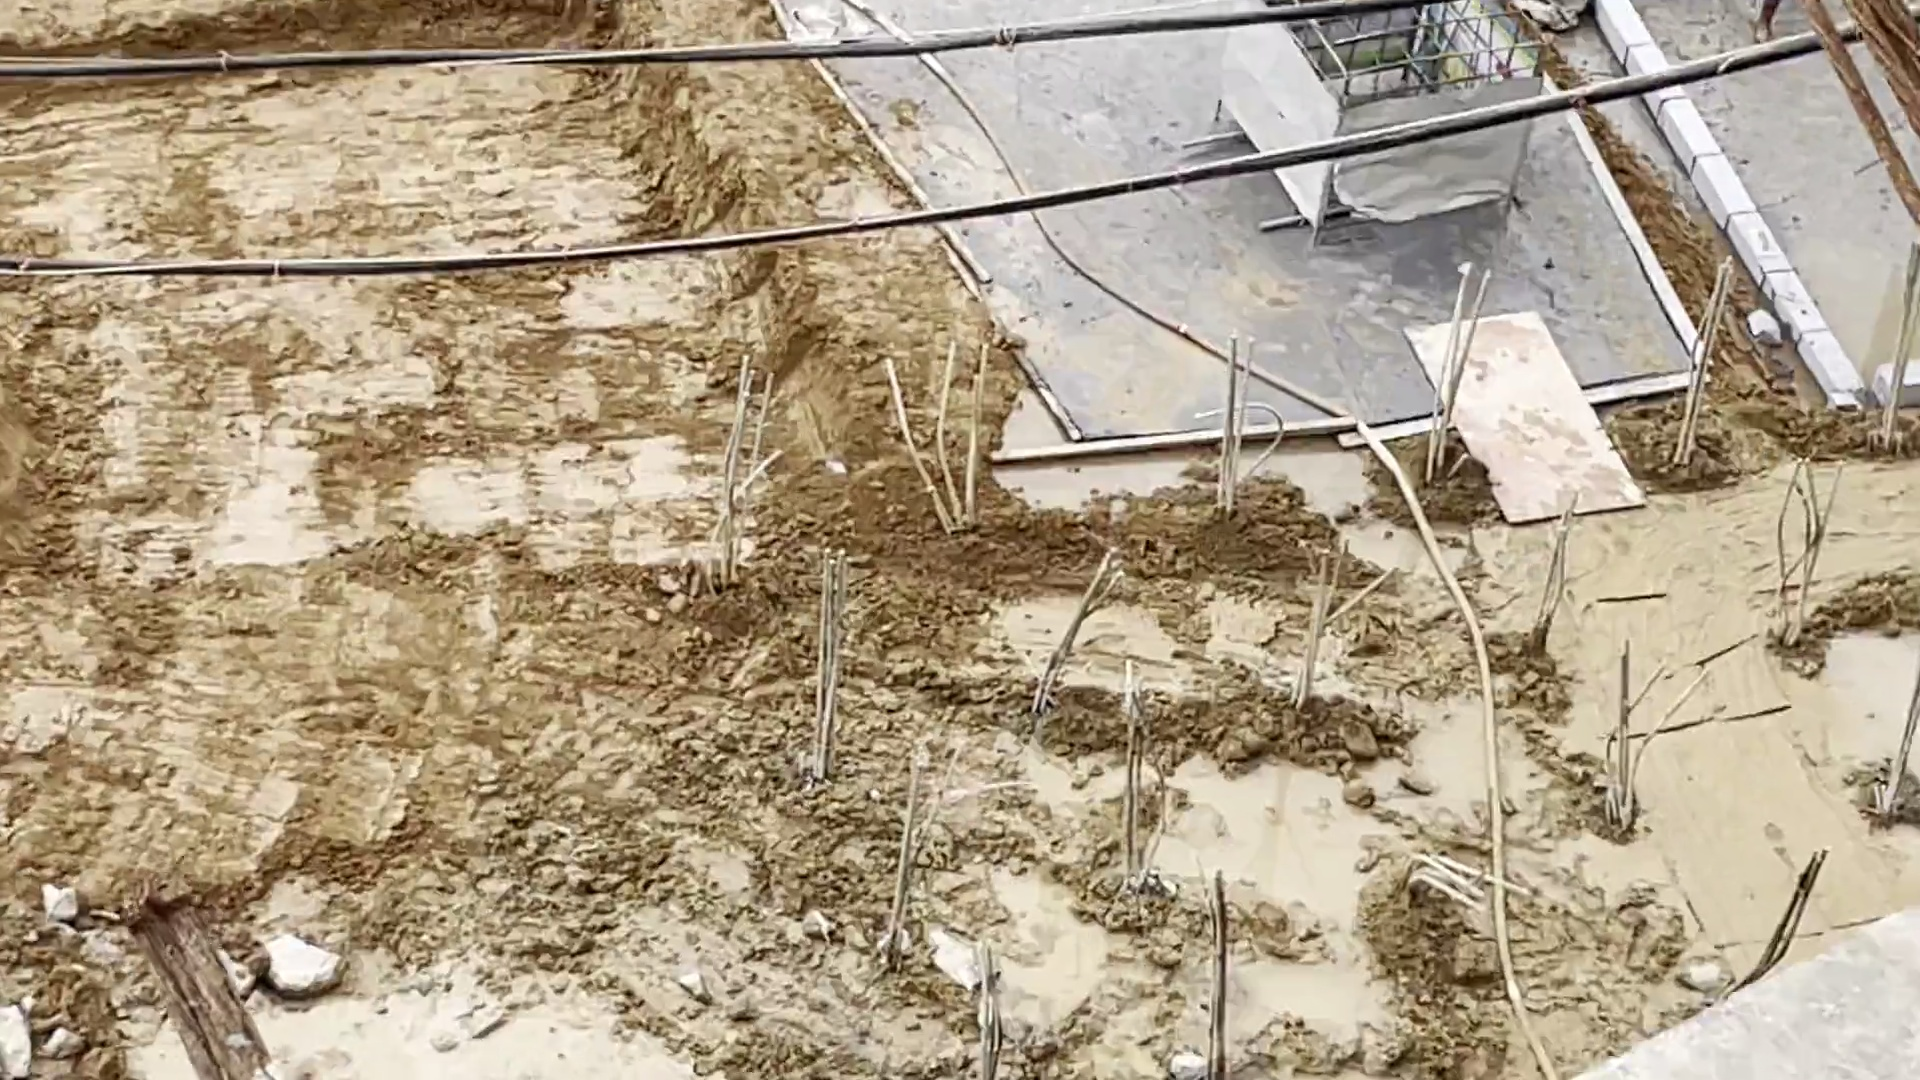brick: (1730, 204, 1817, 339), (1597, 1, 1672, 98), (1663, 99, 1731, 204), (1815, 342, 1855, 396), (1876, 359, 1920, 397)
